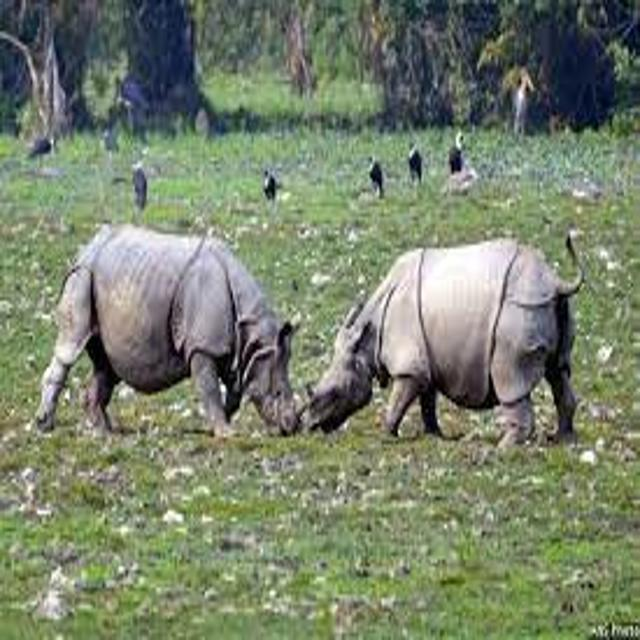Rinoceros: (25, 206, 311, 492), (300, 243, 600, 471)
